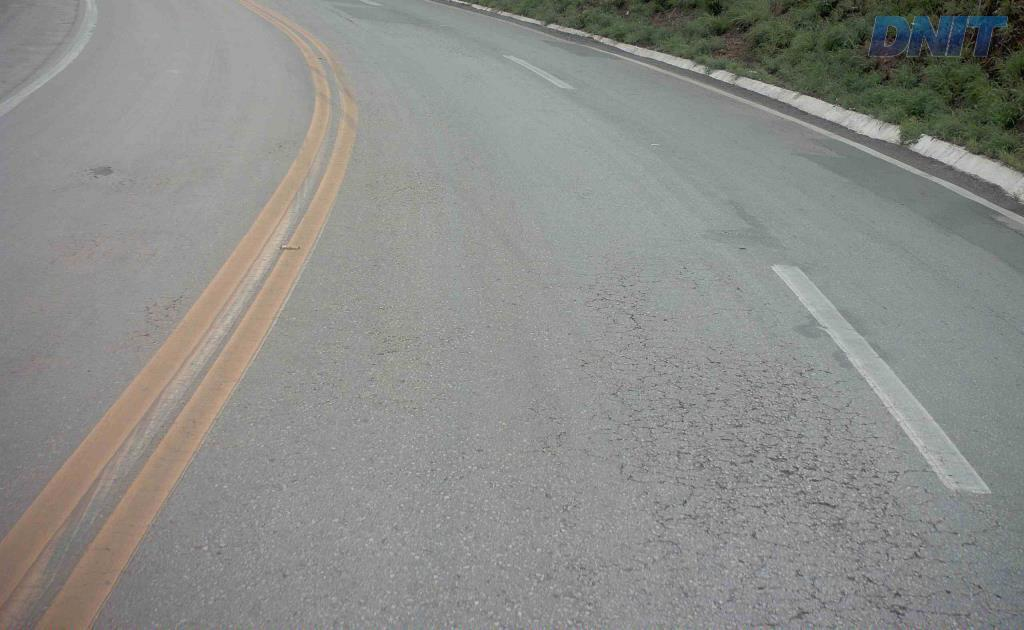crack: (736, 443, 837, 490), (673, 439, 727, 491), (743, 382, 791, 425), (969, 582, 1001, 629)
